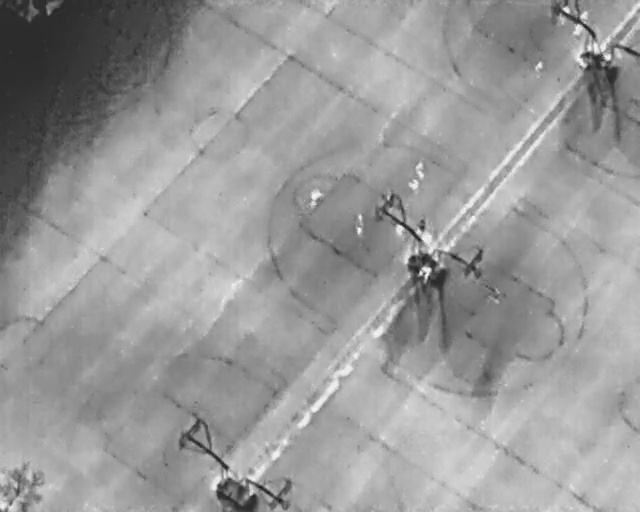Person: (302, 185, 327, 212), (570, 6, 591, 38), (413, 263, 434, 286), (557, 4, 570, 27), (531, 58, 546, 77), (415, 160, 425, 182), (420, 230, 433, 246), (356, 212, 364, 236), (395, 222, 404, 237), (409, 179, 419, 192)
